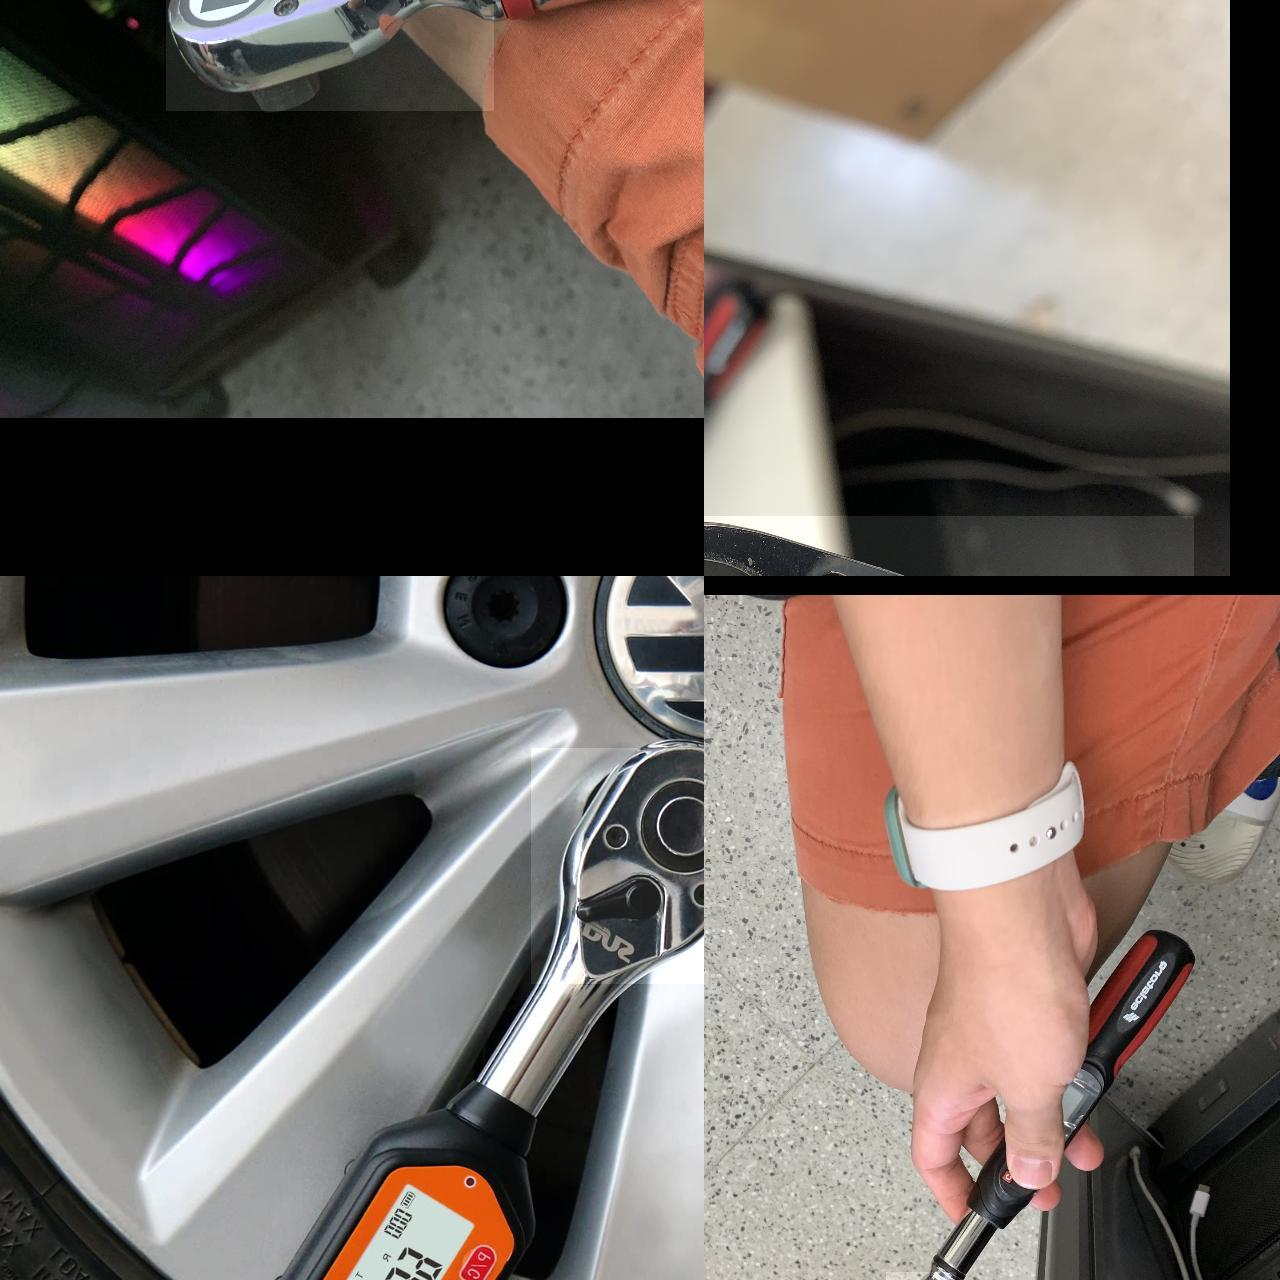Tool: (531, 747, 704, 983), (166, 0, 493, 110)
